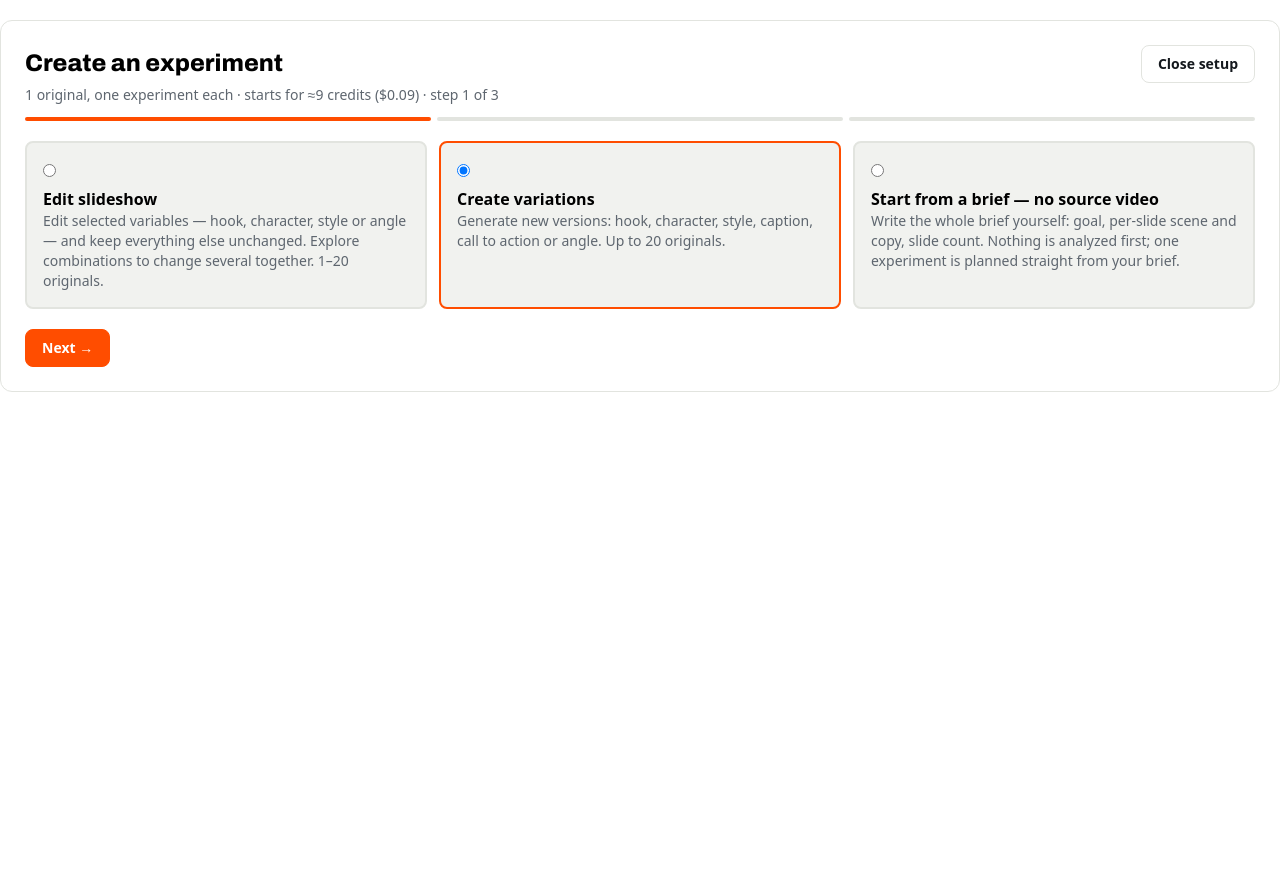
Test case: describes a baseline-only setup without claiming a comparison
This screenshot has width=1280, height=896.
Step 1. Click the button "Next →" → (68, 348), box [25,329,110,367]
(page scrolled)
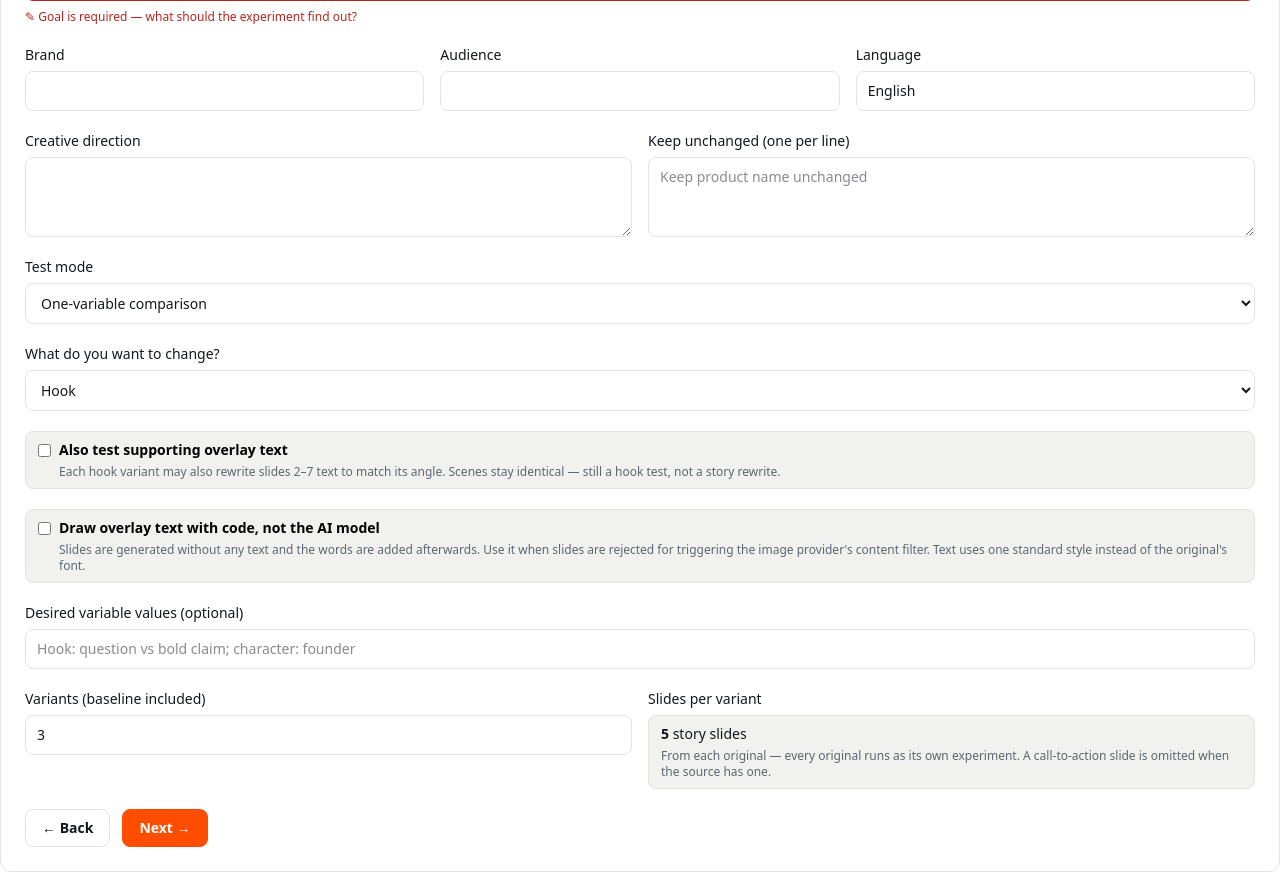
Step 2. Replace the text in the number field labelled "Variants (baseline included)" with "1" → (328, 735), box [25,715,632,755]
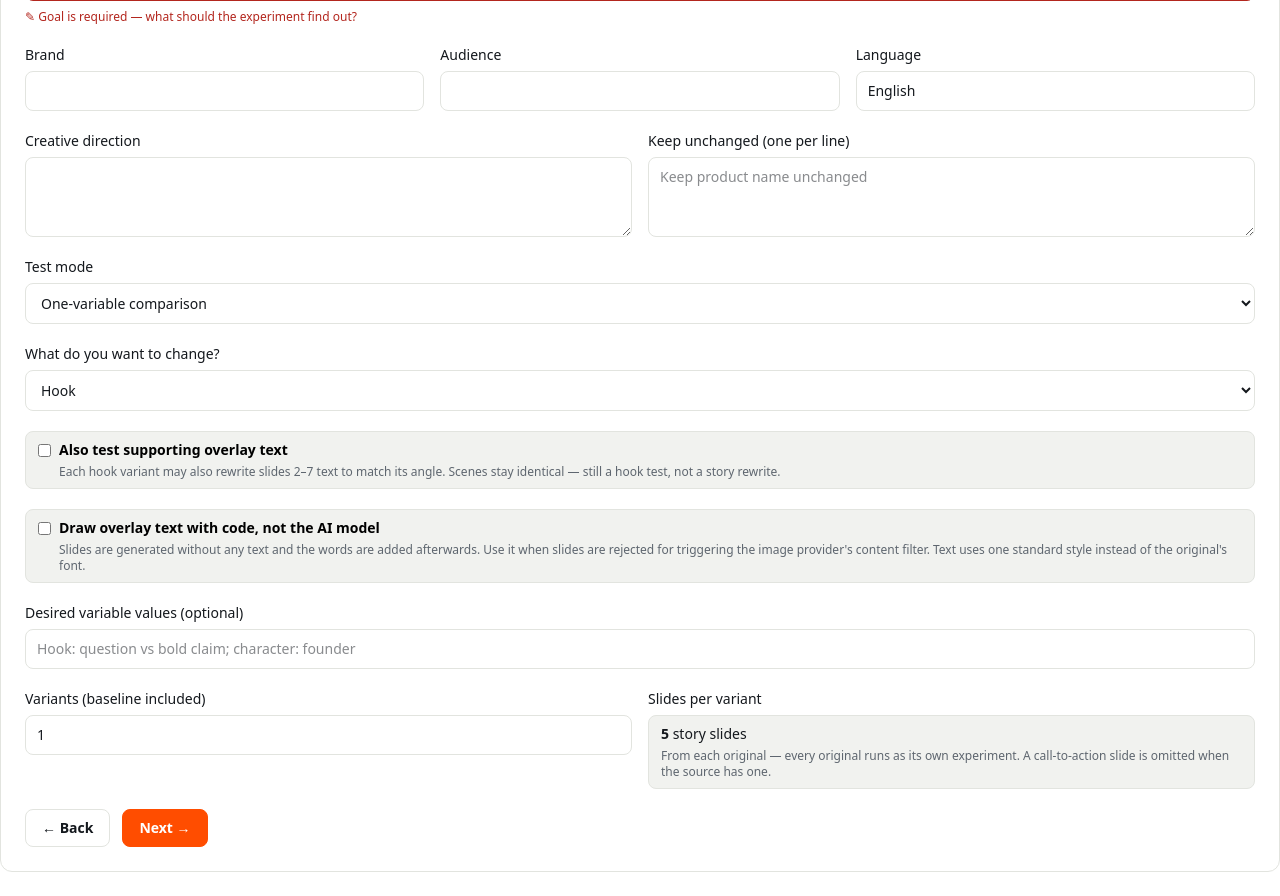
Step 3. Click the button "Next →" → (165, 828), box [122,809,208,847]
(page scrolled)
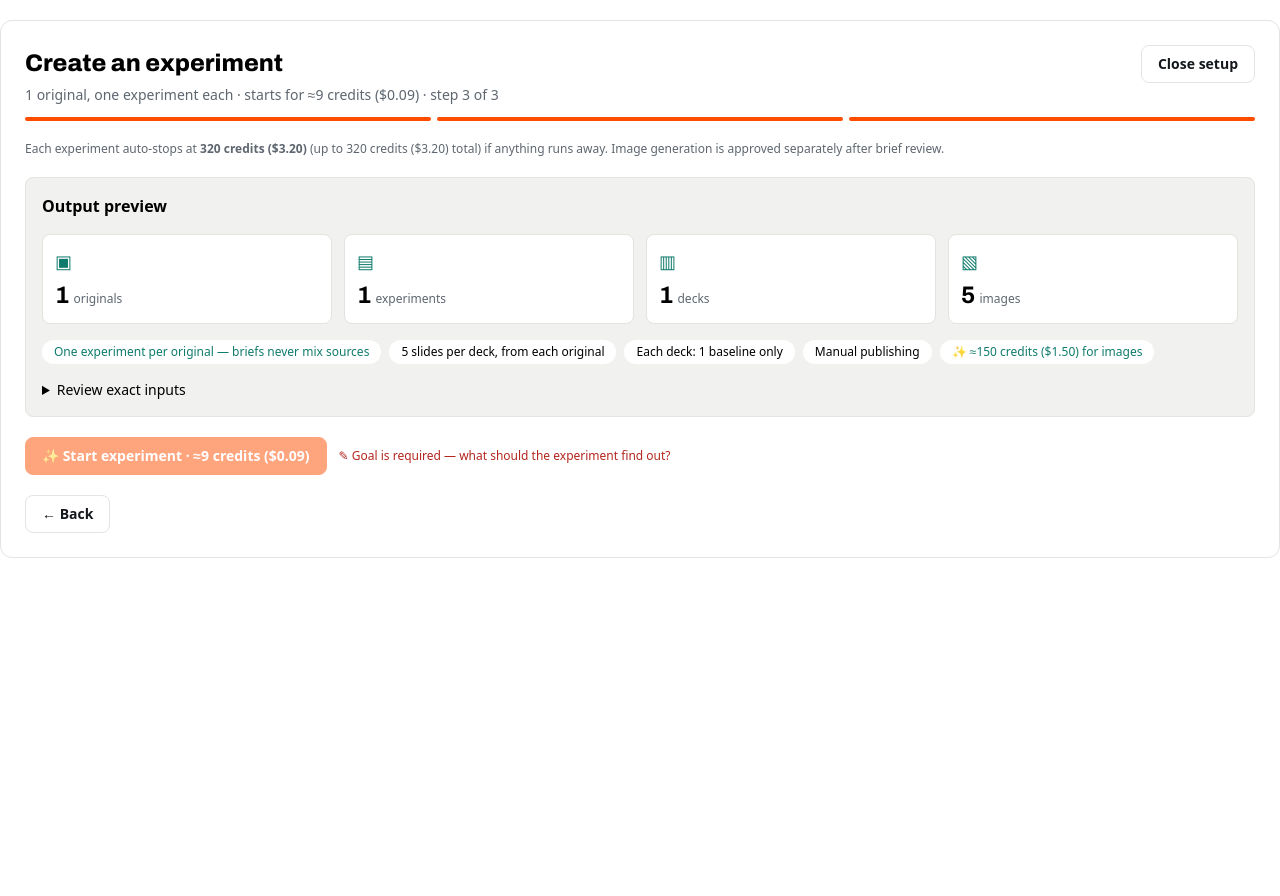
Result: the element named "What this experiment will produce" shows "1 baseline only" at [636,343,783,360]
